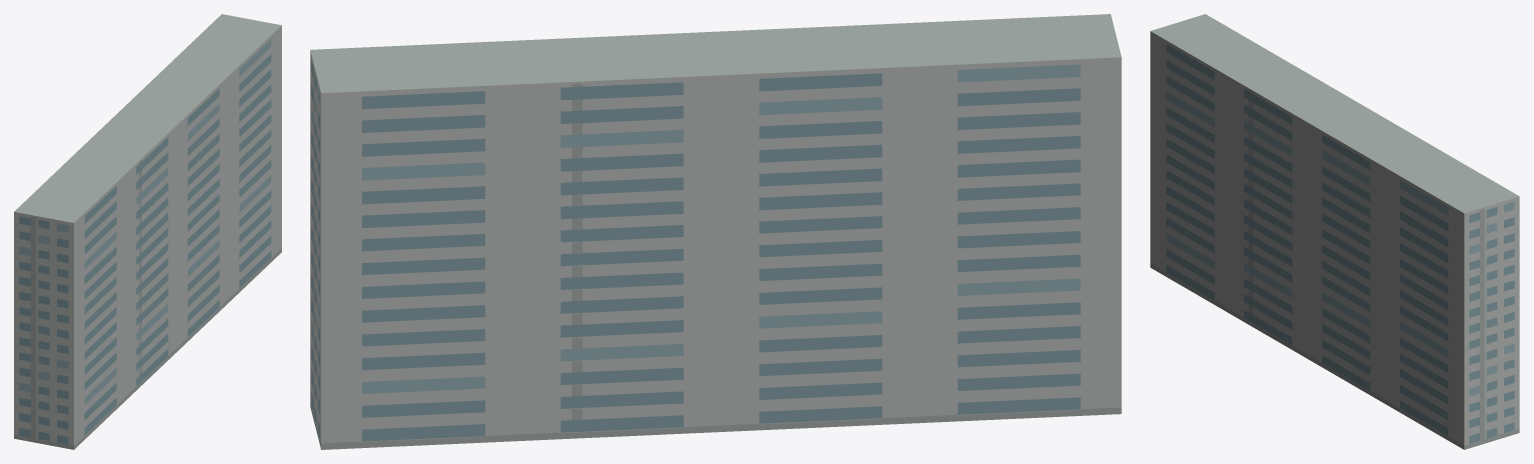
Rendered from residential-cff6dc9f-f7d6-4e7c-ae21-92dce426aeef.glb.
3 views of the same model, side by side, from view 1: azimuth 30°, elevation 25°; view 2: azimuth 150°, elevation 25°; view 3: azimuth 270°, elevation 25° (orthographic). The views are drawn at different scales.
Visible parts, largest first — view 1: residential-cff6dc9f-f7d6-4e7c-ae21-92dce426aeef.tmp; view 2: residential-cff6dc9f-f7d6-4e7c-ae21-92dce426aeef.tmp; view 3: residential-cff6dc9f-f7d6-4e7c-ae21-92dce426aeef.tmp.
Part boxes in pixels (bbox=[...]): residential-cff6dc9f-f7d6-4e7c-ae21-92dce426aeef.tmp: bbox=[14, 14, 281, 449]; residential-cff6dc9f-f7d6-4e7c-ae21-92dce426aeef.tmp: bbox=[310, 14, 1121, 449]; residential-cff6dc9f-f7d6-4e7c-ae21-92dce426aeef.tmp: bbox=[1150, 14, 1519, 449].
Bounding box in the file's own units: 77.75 × 43 × 60.88.
